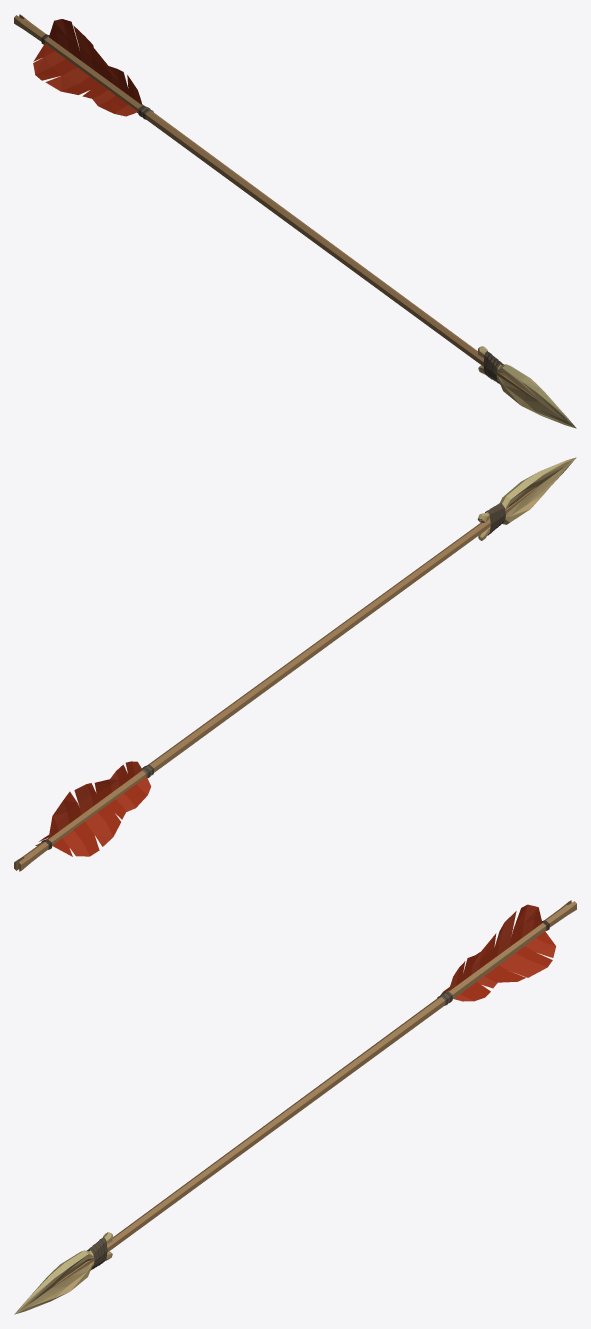
Rendered from thinBoneArrow.glb.
3 views of the same model, one above another, from view 1: azimuth 30°, elevation 25°; view 2: azimuth 150°, elevation 25°; view 3: azimuth 330°, elevation 25° (orthographic).
Visible parts, largest first — view 1: thinBoneArrow; view 2: thinBoneArrow; view 3: thinBoneArrow.
Part boxes in pixels (x1,y1,x2,y2): thinBoneArrow: (14, 14, 576, 428); thinBoneArrow: (14, 457, 576, 871); thinBoneArrow: (14, 900, 576, 1314).
Bounding box in the file's own units: 0.0596 × 0.0541 × 1.03.
